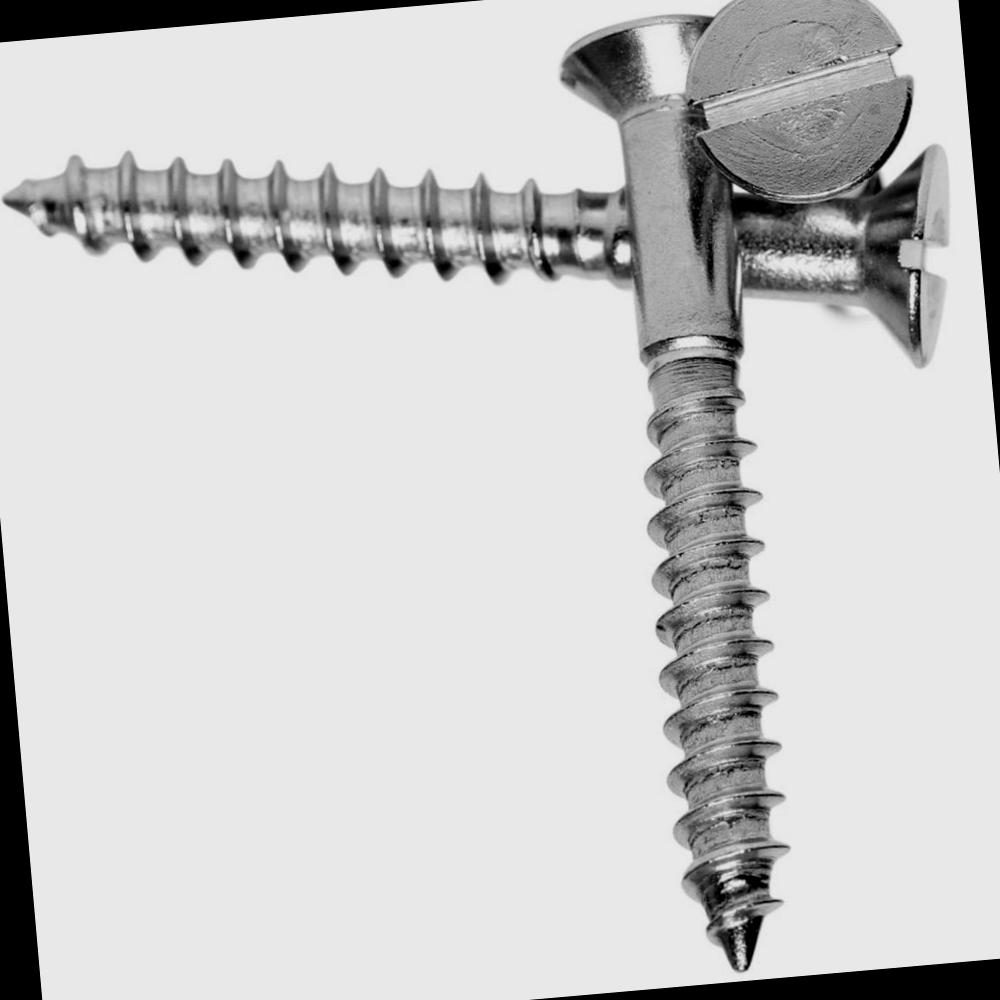screw: (690, 0, 921, 216)
